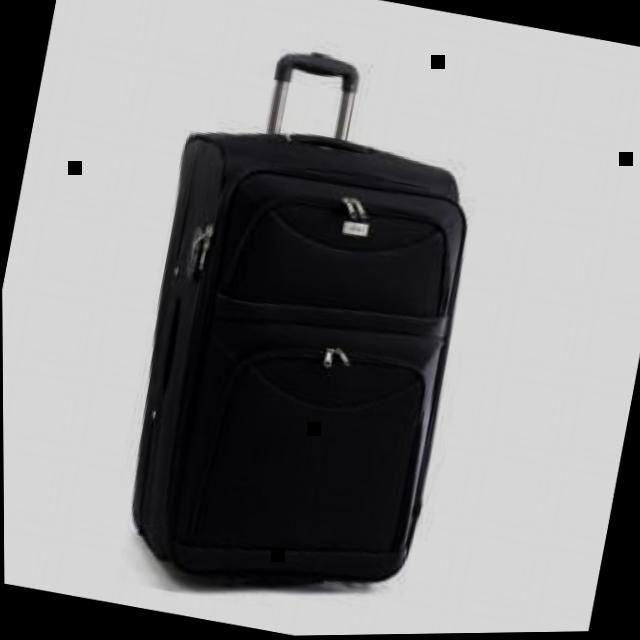luggage: (92, 103, 498, 635)
